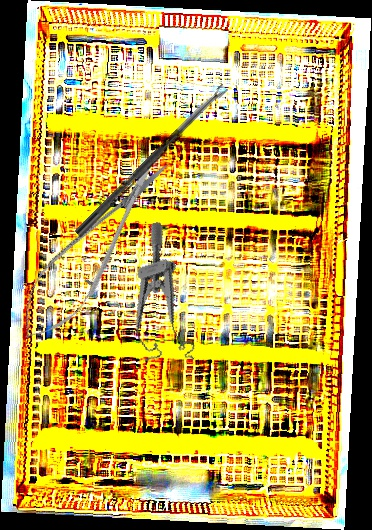Micro Scissor: (4, 141, 184, 355)
Speculum: (103, 221, 207, 375)
Surgical Spoon: (74, 83, 230, 239)
